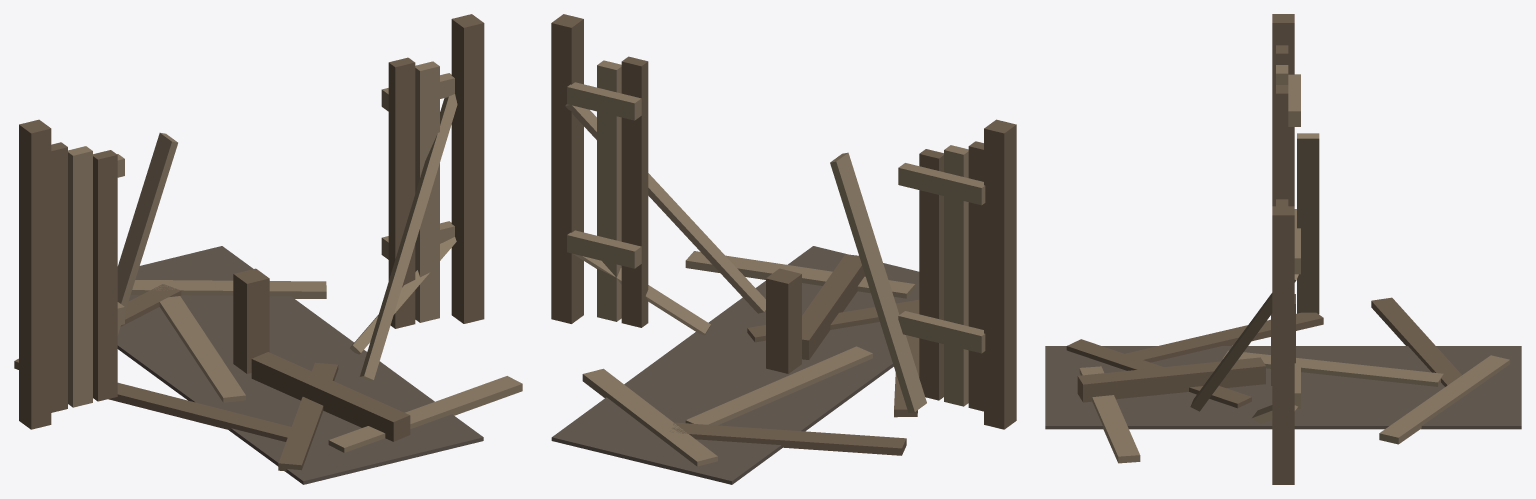
The model's file is gap_planks.glb.
3 renders of one model, left to right at view 1: azimuth 30°, elevation 25°; view 2: azimuth 150°, elevation 25°; view 3: azimuth 270°, elevation 25°, orthographic. The views are drawn at different scales.
Parts seen in each view (by area): view 1: gap_planks; view 2: gap_planks; view 3: gap_planks.
Part boxes in pixels (<box>): gap_planks: <box>14,14,522,484</box>; gap_planks: <box>551,14,1016,484</box>; gap_planks: <box>1045,14,1521,484</box>.
Size of the model in its own units: 1.92 by 1.2 by 1.92.
